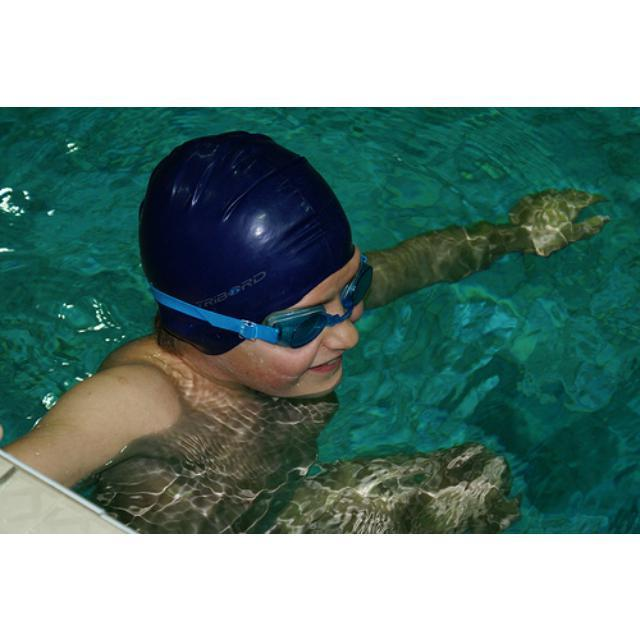human: (4, 127, 609, 484)
